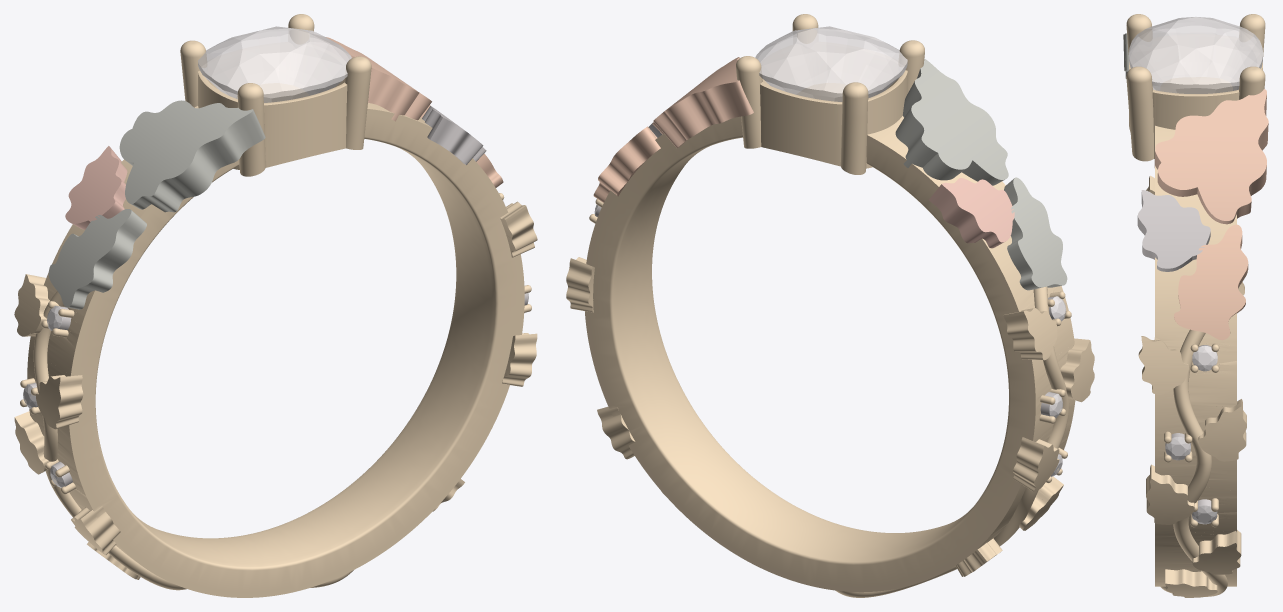
File: ring-1.glb
3 views of the same model, side by side, from view 1: azimuth 30°, elevation 25°; view 2: azimuth 150°, elevation 25°; view 3: azimuth 270°, elevation 25° (orthographic).
Visible parts, largest first — view 1: Object_1_/Yellow Gold-8508952d-1574-41b6-8512-d7f9eb00d480_0, Object_3_/White Gold-b46dab22-34ed-4666-af9c-908cd8a75324_2_, Diamond_Cushion, Object_2_/White Gold-b46dab22-34ed-4666-af9c-908cd8a75324_0, Object_4_/Rose Gold-59fc2441-46da-4b59-b8b9-137be5e2ac08_0, Object_13_/Rose Gold-59fc2441-46da-4b59-b8b9-137be5e2ac08_2_, Object_12_WhiteMetal_0; view 2: Object_1_/Yellow Gold-8508952d-1574-41b6-8512-d7f9eb00d480_0, Object_3_/White Gold-b46dab22-34ed-4666-af9c-908cd8a75324_2_, Diamond_Cushion, Object_2_/White Gold-b46dab22-34ed-4666-af9c-908cd8a75324_0, Object_13_/Rose Gold-59fc2441-46da-4b59-b8b9-137be5e2ac08_2_, Object_4_/Rose Gold-59fc2441-46da-4b59-b8b9-137be5e2ac08_0, Object_14_/White Gold-b46dab22-34ed-4666-af9c-908cd8a75324_3; view 3: Object_1_/Yellow Gold-8508952d-1574-41b6-8512-d7f9eb00d480_0, Object_13_/Rose Gold-59fc2441-46da-4b59-b8b9-137be5e2ac08_2_, Diamond_Cushion, Object_14_/White Gold-b46dab22-34ed-4666-af9c-908cd8a75324_3, Object_12_WhiteMetal_0, Diamond_Round_6, Object_11_WhiteMetal_0, Object_10_WhiteMetal_0, Diamond_Round_4, Object_9_WhiteMetal_0, Diamond_Round_5.
Part boxes in pixels (left/top/right/bottom): Object_1_/Yellow Gold-8508952d-1574-41b6-8512-d7f9eb00d480_0: left=14, top=14, right=537, bottom=597; Object_3_/White Gold-b46dab22-34ed-4666-af9c-908cd8a75324_2_: left=119, top=100, right=265, bottom=212; Diamond_Cushion: left=198, top=26, right=351, bottom=102; Object_2_/White Gold-b46dab22-34ed-4666-af9c-908cd8a75324_0: left=48, top=209, right=146, bottom=309; Object_4_/Rose Gold-59fc2441-46da-4b59-b8b9-137be5e2ac08_0: left=65, top=146, right=127, bottom=229; Object_13_/Rose Gold-59fc2441-46da-4b59-b8b9-137be5e2ac08_2_: left=325, top=37, right=431, bottom=121; Object_12_WhiteMetal_0: left=422, top=106, right=486, bottom=164; Object_1_/Yellow Gold-8508952d-1574-41b6-8512-d7f9eb00d480_0: left=566, top=14, right=1094, bottom=597; Object_3_/White Gold-b46dab22-34ed-4666-af9c-908cd8a75324_2_: left=895, top=58, right=1008, bottom=185; Diamond_Cushion: left=755, top=26, right=907, bottom=101; Object_2_/White Gold-b46dab22-34ed-4666-af9c-908cd8a75324_0: left=1004, top=177, right=1067, bottom=290; Object_13_/Rose Gold-59fc2441-46da-4b59-b8b9-137be5e2ac08_2_: left=652, top=57, right=753, bottom=148; Object_4_/Rose Gold-59fc2441-46da-4b59-b8b9-137be5e2ac08_0: left=929, top=178, right=1014, bottom=248; Object_14_/White Gold-b46dab22-34ed-4666-af9c-908cd8a75324_3: left=593, top=126, right=660, bottom=202; Object_1_/Yellow Gold-8508952d-1574-41b6-8512-d7f9eb00d480_0: left=1126, top=14, right=1265, bottom=597; Object_13_/Rose Gold-59fc2441-46da-4b59-b8b9-137be5e2ac08_2_: left=1154, top=89, right=1268, bottom=224; Diamond_Cushion: left=1129, top=17, right=1262, bottom=93; Object_14_/White Gold-b46dab22-34ed-4666-af9c-908cd8a75324_3: left=1174, top=224, right=1248, bottom=340; Object_12_WhiteMetal_0: left=1137, top=190, right=1210, bottom=271; Diamond_Round_6: left=1192, top=345, right=1217, bottom=371; Object_11_WhiteMetal_0: left=1192, top=345, right=1217, bottom=370; Object_10_WhiteMetal_0: left=1165, top=433, right=1190, bottom=459; Diamond_Round_4: left=1165, top=437, right=1190, bottom=460; Object_9_WhiteMetal_0: left=1192, top=499, right=1217, bottom=523; Diamond_Round_5: left=1192, top=505, right=1217, bottom=524.
Size of the model in its own units: 0.0215 by 0.0232 by 0.00568.
